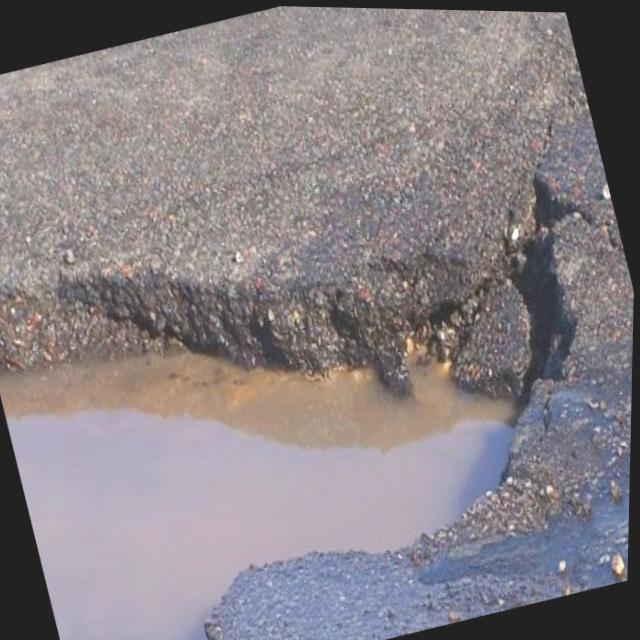Pothole: (0, 194, 568, 640)
